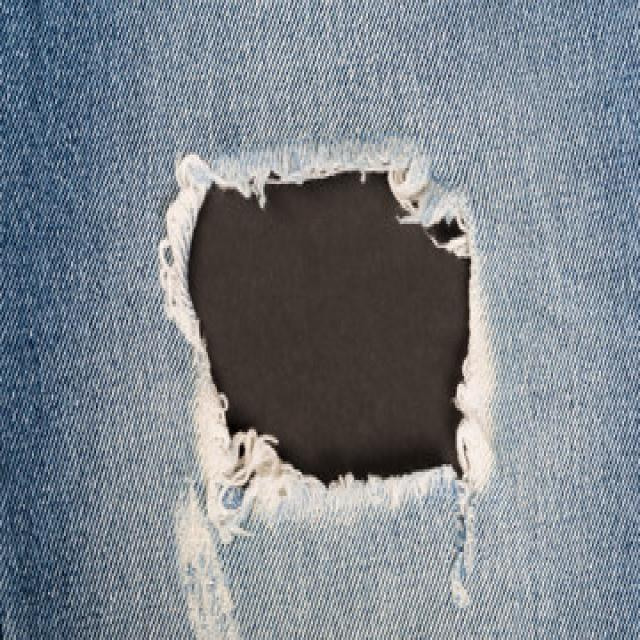Hole: (161, 146, 493, 540), (173, 487, 237, 638)
